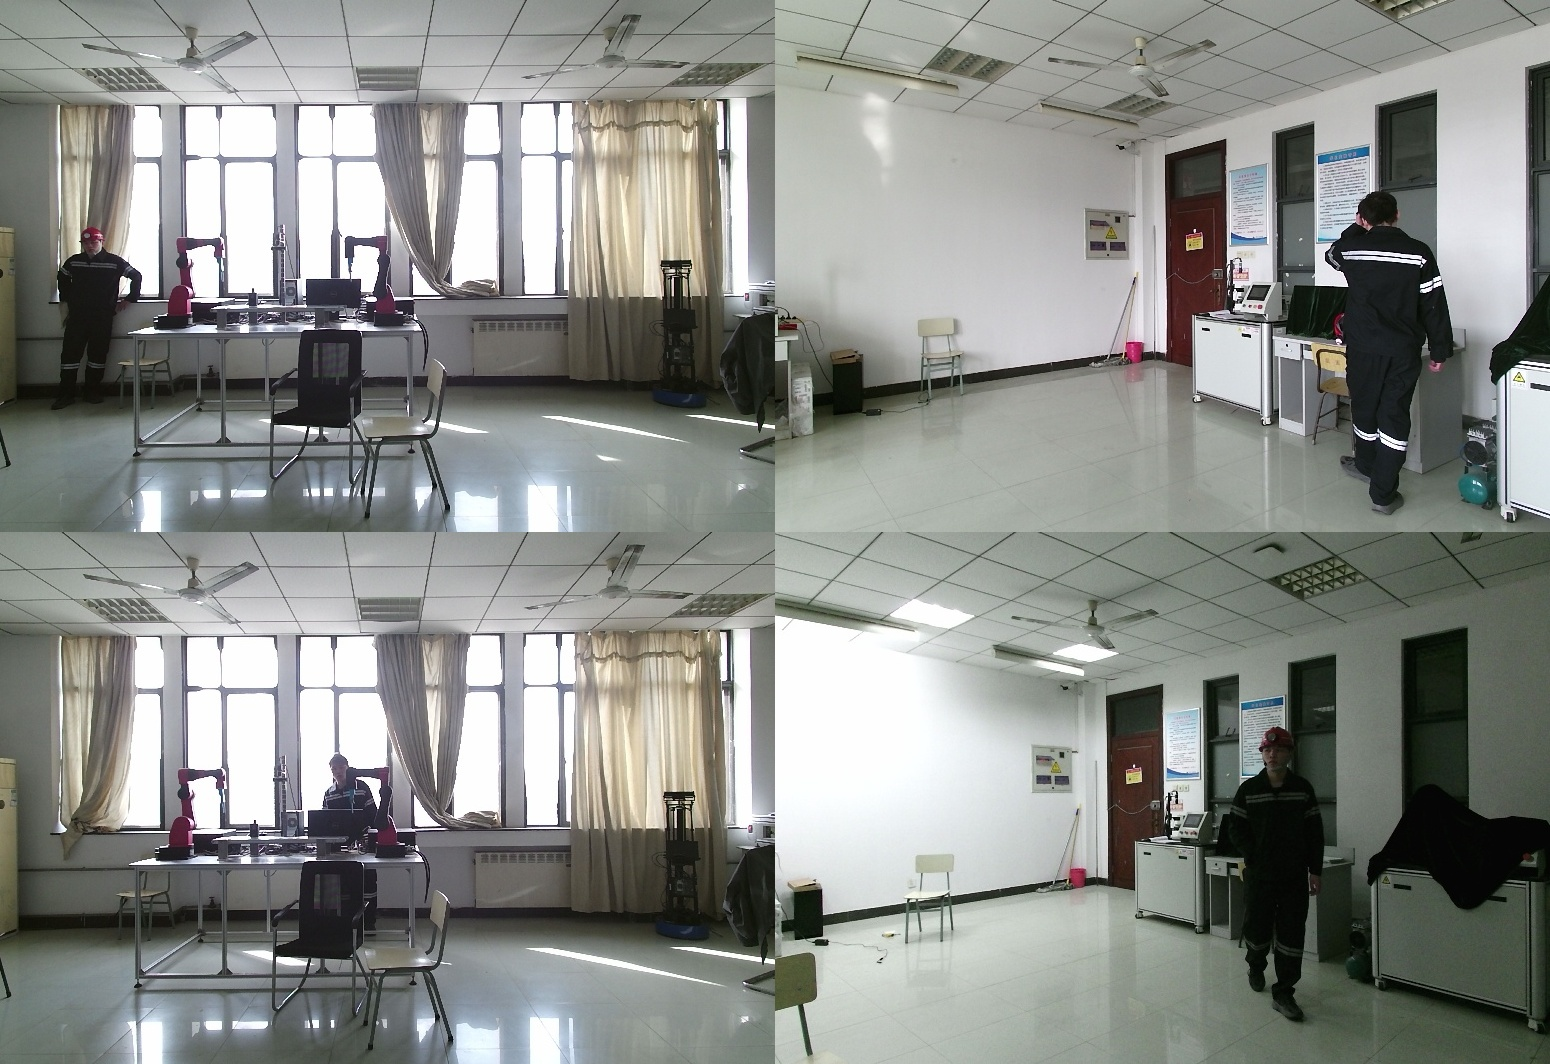person: (1334, 191, 1469, 511), (1219, 728, 1338, 1017), (53, 226, 142, 404), (315, 755, 381, 935)
